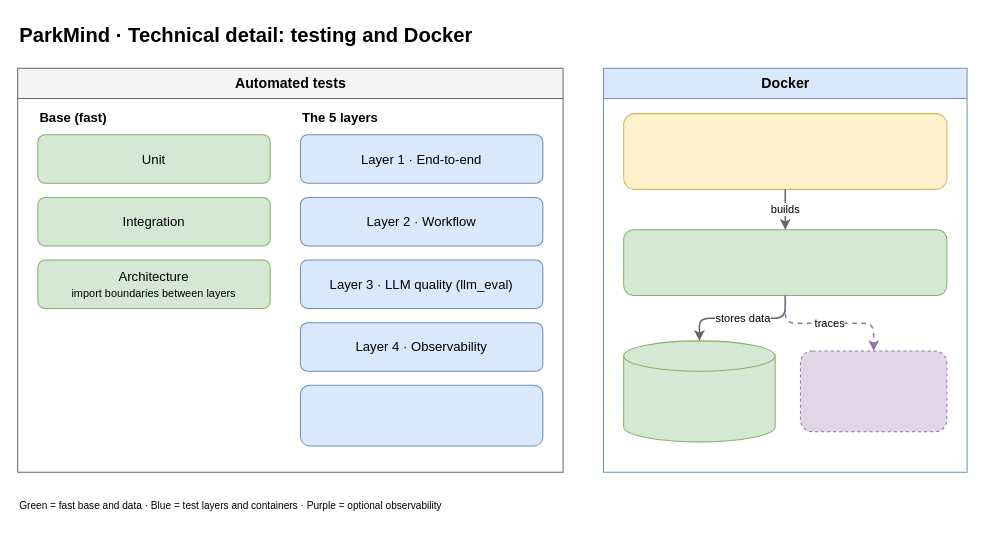
Image size: 985x535. Some labels were removed from this diagram. Each missing label, with the box of its shape:
app API + UI · port 8000: (623, 229, 947, 295)
Layer 5 · Reliability, security and performance: (299, 384, 543, 446)
Local Langfuse optional (separate compose file): (799, 350, 947, 432)
Multi-stage image 1) node:22 builds the React UI 2) python:3.12 + Poetry: (623, 113, 947, 189)
postgres + pgvector port 5432 · pgdata volume: (623, 340, 775, 442)
